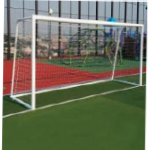goals: (10, 15, 145, 108)
